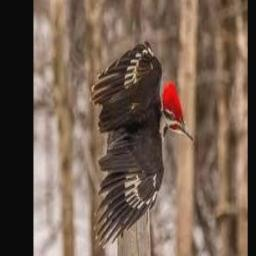Woodpecker: (90, 41, 193, 248)
